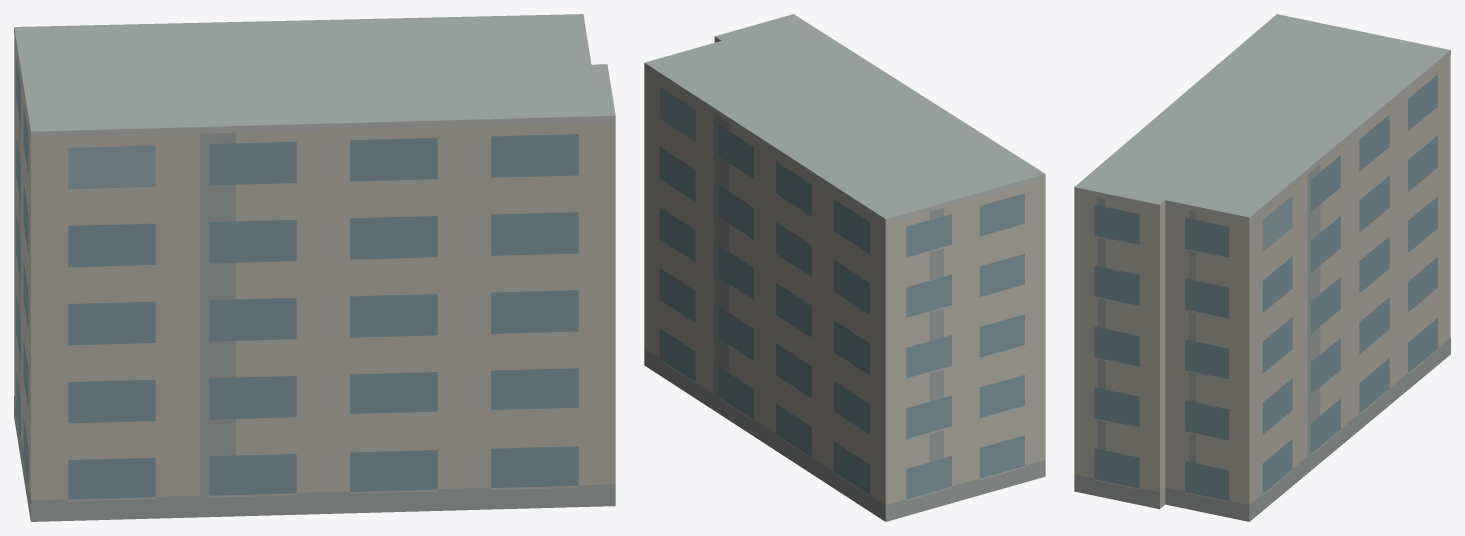
File: survey-upis-32973919.glb
3 renders of one model, left to right at view 1: azimuth 30°, elevation 25°; view 2: azimuth 150°, elevation 25°; view 3: azimuth 270°, elevation 25°, orthographic. The views are drawn at different scales.
Visible parts, largest first — view 1: survey-upis-32973919.tmp; view 2: survey-upis-32973919.tmp; view 3: survey-upis-32973919.tmp.
Boxes of the visible parts, left/top/right/bottom form: survey-upis-32973919.tmp: left=14, top=14, right=615, bottom=521; survey-upis-32973919.tmp: left=644, top=14, right=1045, bottom=521; survey-upis-32973919.tmp: left=1074, top=14, right=1450, bottom=521.
Bounding box in the file's own units: 20.59 × 14.35 × 16.1.
